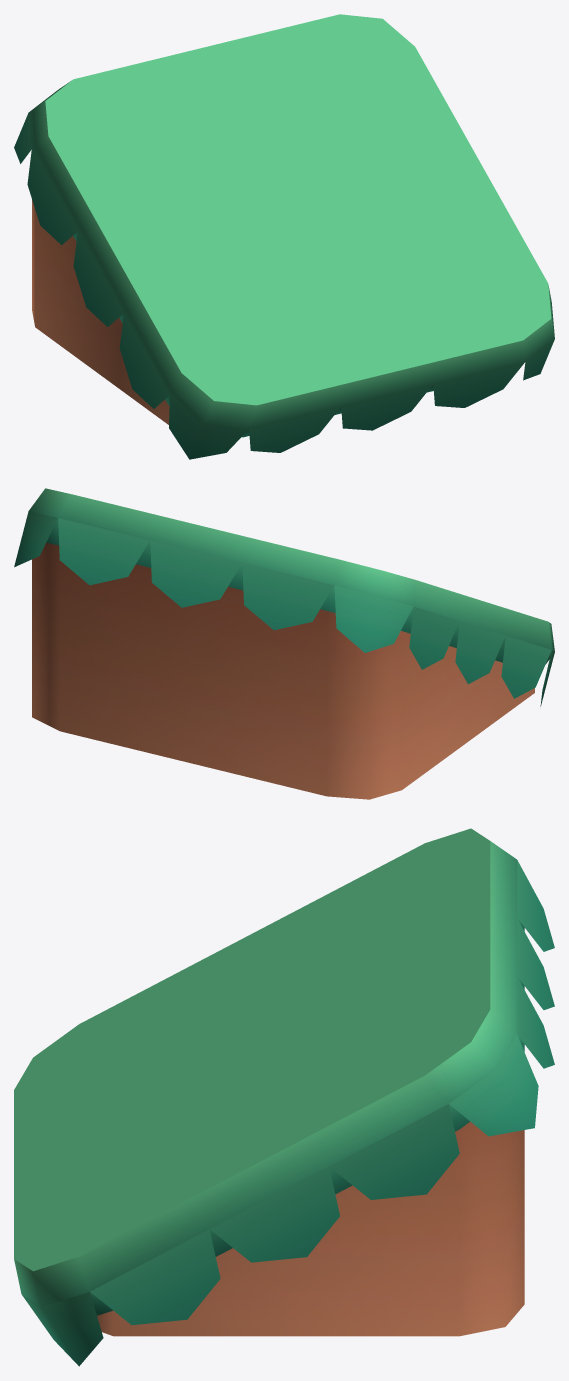
The model's file is kenney-platformer-block-grass-overhang-large-slope-steep.glb.
3 views of the same model, one above another, from view 1: azimuth 30°, elevation 25°; view 2: azimuth 150°, elevation 25°; view 3: azimuth 270°, elevation 25° (orthographic). The views are drawn at different scales.
Visible parts, largest first — view 1: block-grass-overhang-large-slope-steep; view 2: block-grass-overhang-large-slope-steep; view 3: block-grass-overhang-large-slope-steep.
Boxes of the visible parts, bbox=[...] form: block-grass-overhang-large-slope-steep: bbox=[14, 14, 554, 459]; block-grass-overhang-large-slope-steep: bbox=[14, 488, 554, 799]; block-grass-overhang-large-slope-steep: bbox=[14, 828, 554, 1366].
Size of the model in its own units: 2.08 by 1.37 by 1.97.
1 material, 1 textured.
